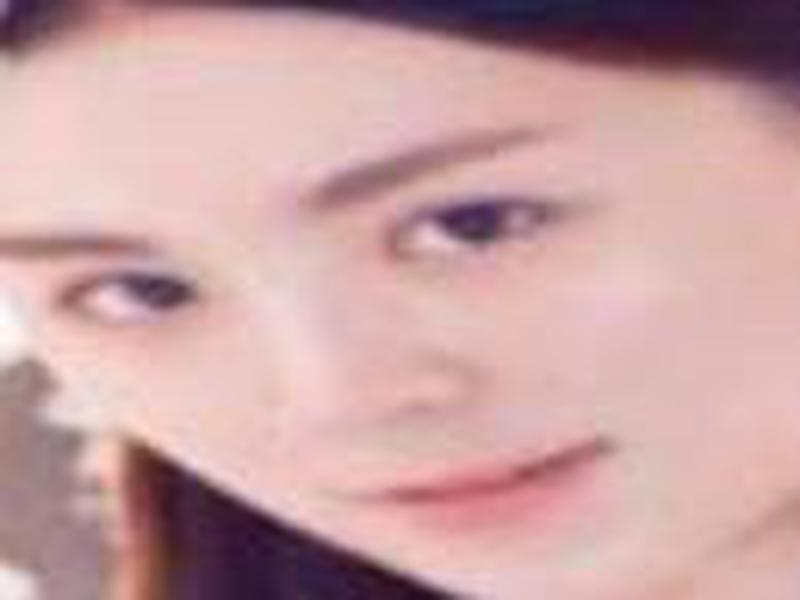without_mask: (10, 21, 776, 589)
